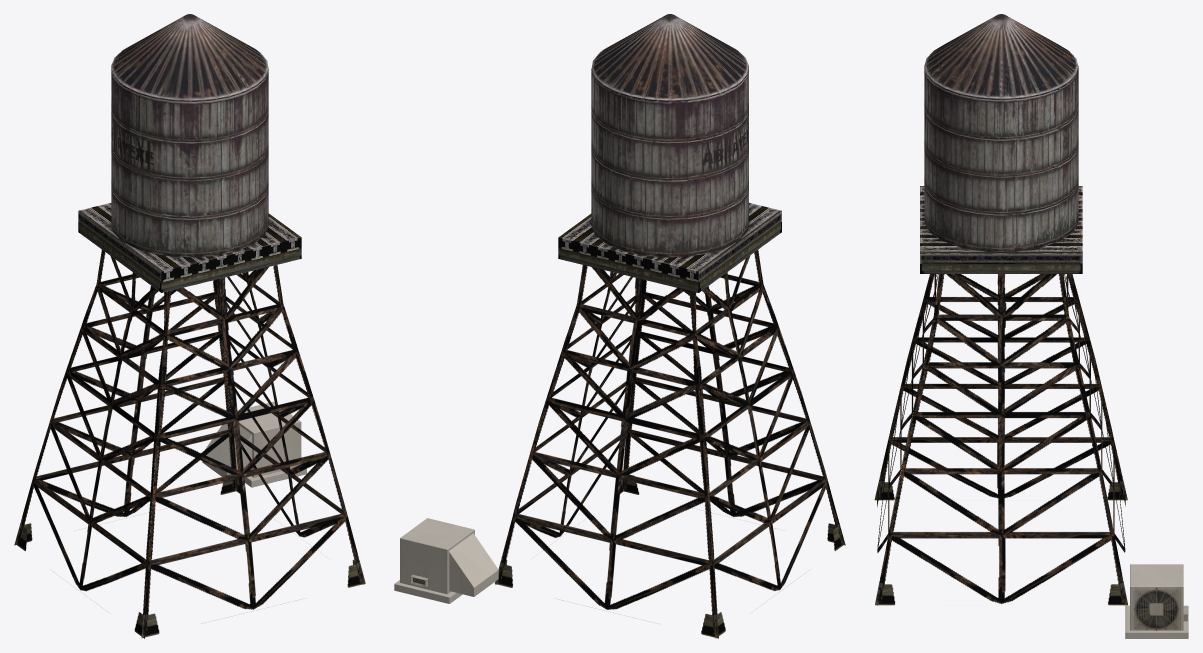
Rendered from nycity_15.gltf.
3 views of the same model, side by side, from view 1: azimuth 30°, elevation 25°; view 2: azimuth 150°, elevation 25°; view 3: azimuth 270°, elevation 25° (orthographic). The views are drawn at different scales.
Parts seen in each view (by area): view 1: nycity_15; view 2: nycity_15; view 3: nycity_15.
Boxes of the visible parts, x1,y1,x2,y2 form: nycity_15: (14,14,365,638); nycity_15: (394,14,845,638); nycity_15: (874,14,1188,638).
Bounding box in the file's own units: 4.62 × 8.27 × 4.38.
3 materials, 3 textured.
